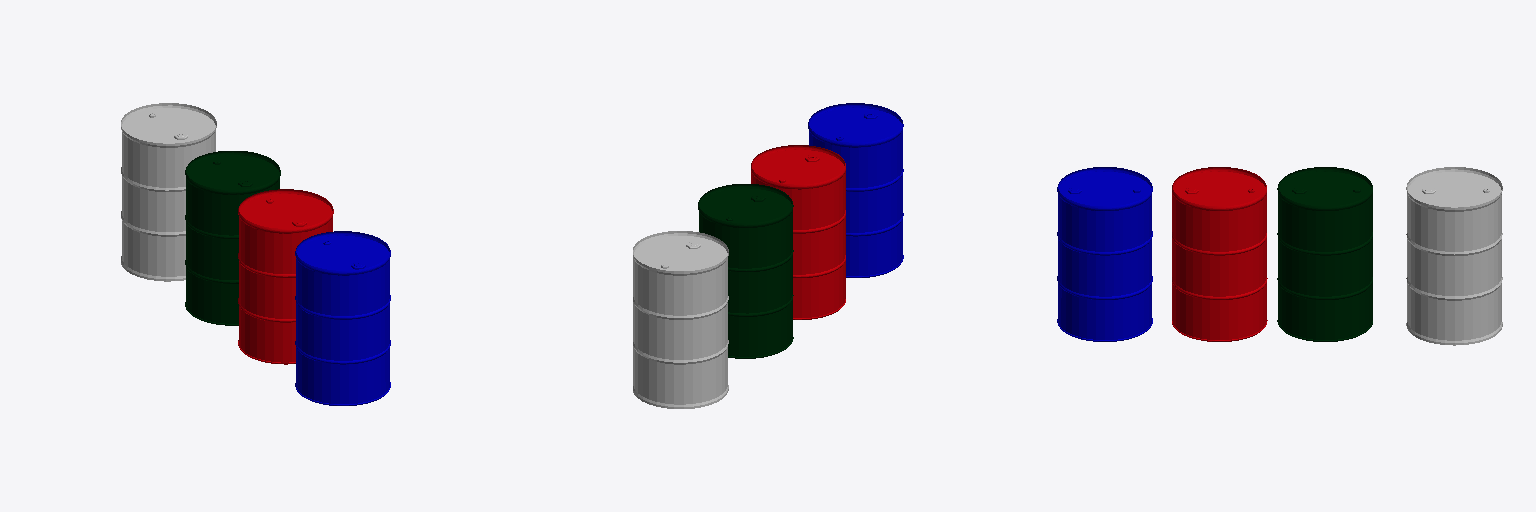
The model's file is Drum.obj.
3 renders of one model, left to right at view 1: azimuth 30°, elevation 25°; view 2: azimuth 150°, elevation 25°; view 3: azimuth 270°, elevation 25°, orthographic.
Parts seen in each view (by area): view 1: Cylinder.002_Cylinder.023, Cylinder.011_Cylinder.012, Cylinder.003_Cylinder.024, Cylinder_Cylinder.016; view 2: Cylinder.011_Cylinder.012, Cylinder_Cylinder.016, Cylinder.002_Cylinder.023, Cylinder.003_Cylinder.024; view 3: Cylinder.011_Cylinder.012, Cylinder_Cylinder.016, Cylinder.003_Cylinder.024, Cylinder.002_Cylinder.023.
Boxes of the visible parts, <box> form: Cylinder.002_Cylinder.023: <box>295,231,390,405</box>; Cylinder.011_Cylinder.012: <box>121,103,216,281</box>; Cylinder.003_Cylinder.024: <box>238,189,333,364</box>; Cylinder_Cylinder.016: <box>185,151,280,325</box>; Cylinder.011_Cylinder.012: <box>633,231,728,408</box>; Cylinder_Cylinder.016: <box>698,184,793,358</box>; Cylinder.002_Cylinder.023: <box>808,103,903,277</box>; Cylinder.003_Cylinder.024: <box>751,145,845,319</box>; Cylinder.011_Cylinder.012: <box>1406,167,1502,345</box>; Cylinder_Cylinder.016: <box>1277,167,1372,341</box>; Cylinder.003_Cylinder.024: <box>1172,167,1267,341</box>; Cylinder.002_Cylinder.023: <box>1057,167,1152,341</box>.
Bounding box in the file's own units: 1.2 × 1.9 × 5.54.